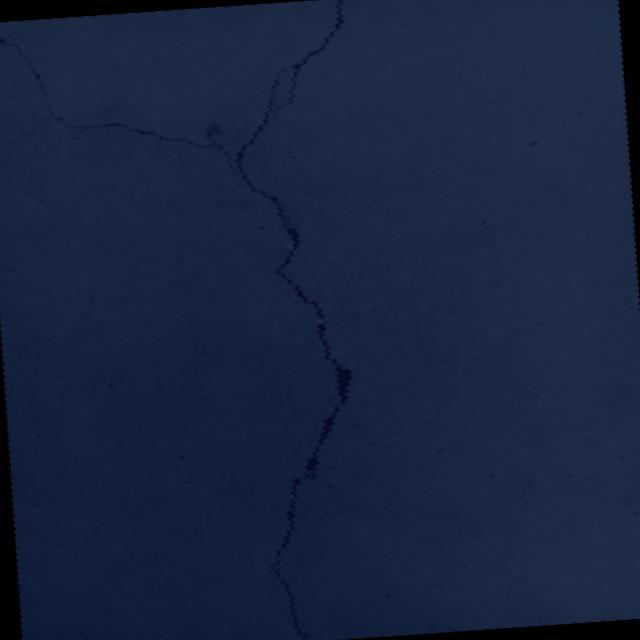crack: (0, 7, 371, 640), (262, 0, 355, 124)
